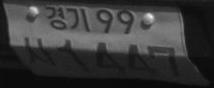1: (55, 38, 90, 71)
4: (94, 41, 126, 75), (126, 43, 150, 76)
7: (150, 45, 180, 78)
9: (116, 8, 134, 35), (95, 8, 113, 33)
경기_H: (44, 6, 91, 32)
사: (24, 37, 55, 68)
